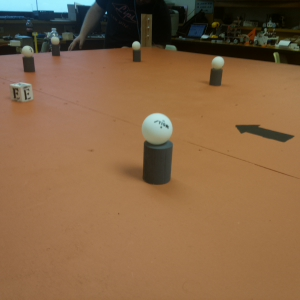blockE: (10, 83, 35, 103)
corner: (140, 16, 154, 48)
obstacle: (142, 114, 172, 189), (209, 56, 225, 88), (20, 47, 36, 74), (131, 41, 143, 63), (50, 37, 62, 59)
start: (234, 120, 295, 147)
